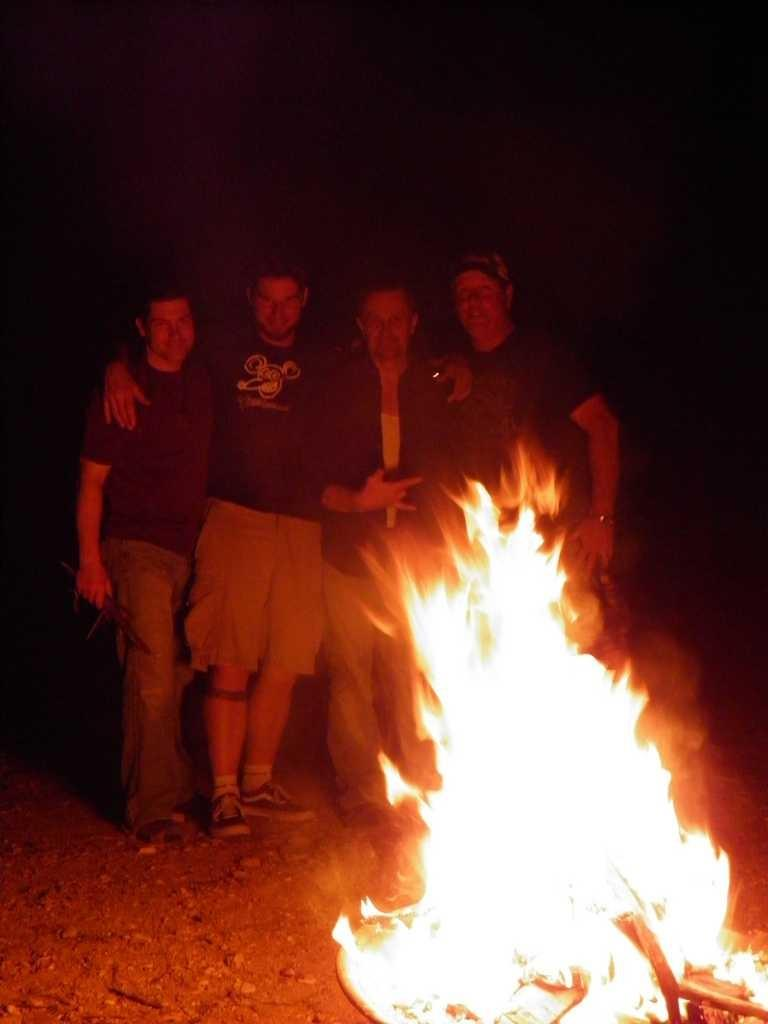fire: (445, 678, 628, 995), (465, 545, 560, 665)
